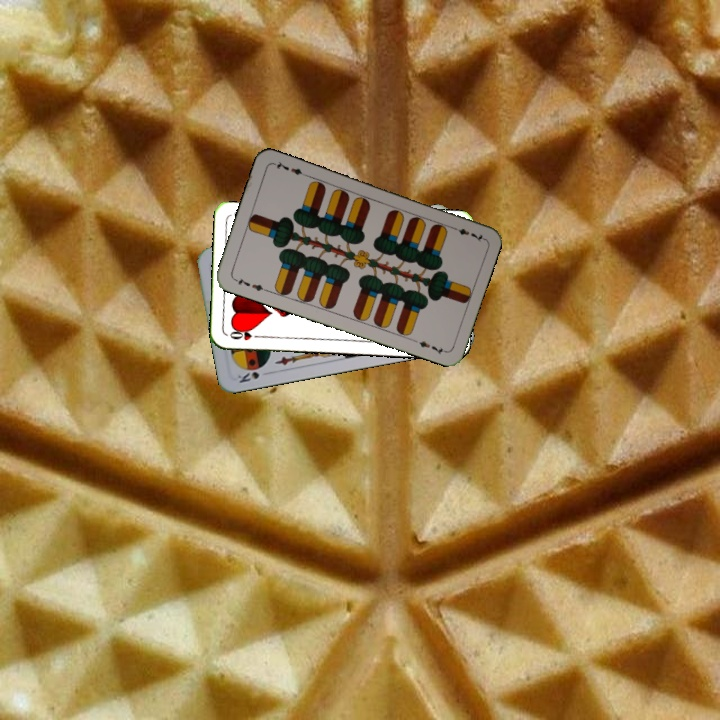E7: (447, 222, 486, 244), (230, 274, 269, 294)
HO: (226, 326, 265, 343)
SK: (233, 368, 262, 385)
